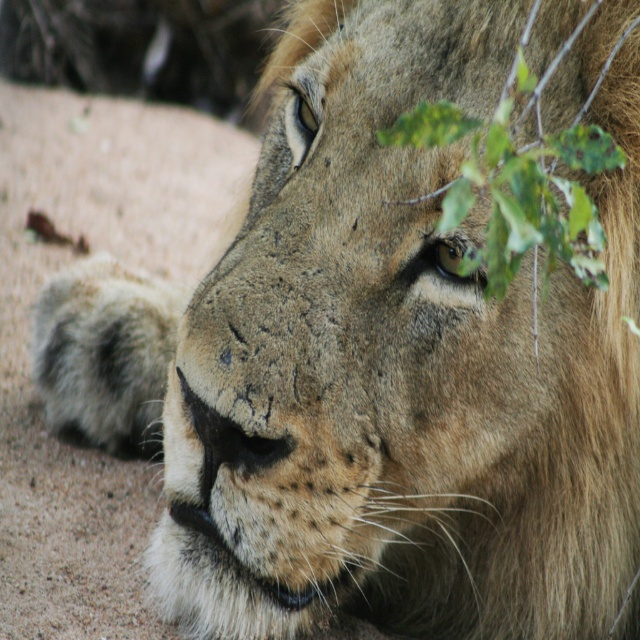Lion: (27, 0, 640, 640)
